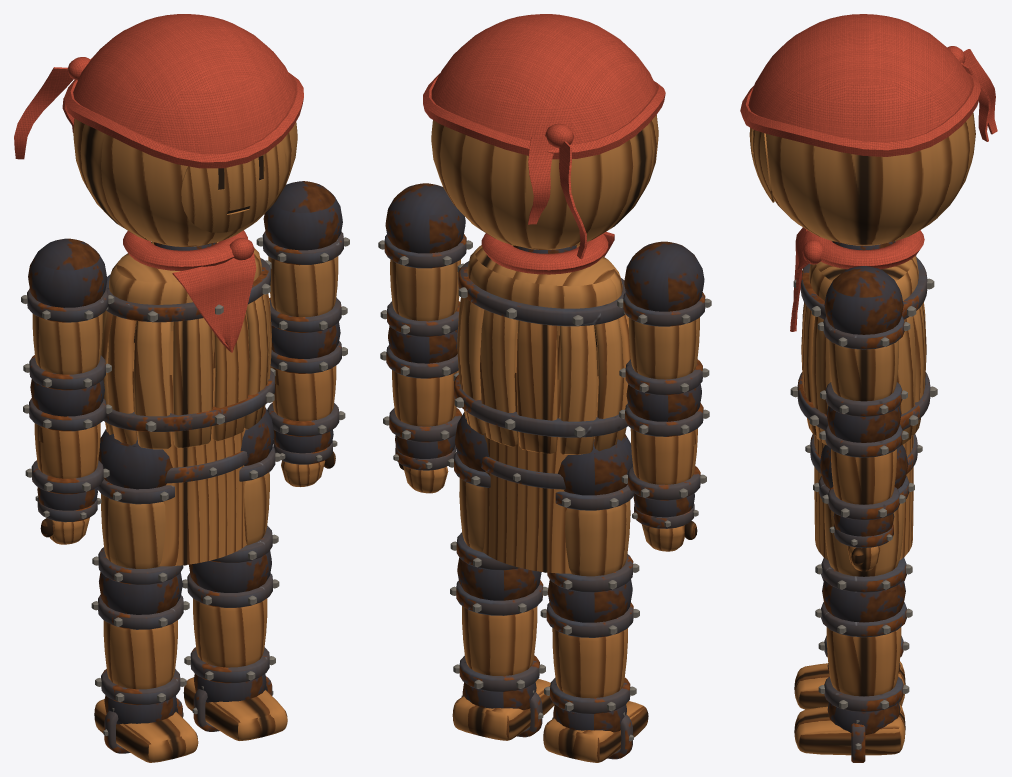
File: wooden.glb
3 views of the same model, side by side, from view 1: azimuth 30°, elevation 25°; view 2: azimuth 150°, elevation 25°; view 3: azimuth 270°, elevation 25° (orthographic).
Visible parts, largest first — view 1: Torso, Bandana, UpperArm_R, Head, UpperArm_L, LowerLeg_R, LowerLeg_L, UpperLeg_R, LowerArm_R, Scarf, LowerArm_L, FacePlate (+5 smaller); view 2: Torso, Bandana, Head, UpperArm_R, UpperArm_L, LowerLeg_R, LowerLeg_L, UpperLeg_R, LowerArm_R, LowerArm_L, Foot_R, Foot_L (+4 smaller); view 3: Bandana, Head, Torso, UpperArm_L, LowerLeg_L, LowerArm_L, Foot_L, UpperLeg_L, Scarf, Hand_L, Foot_R, FacePlate.
Part boxes in pixels (box(x1,y1,x2,y2)): Torso: box(100, 241, 275, 566); Bandana: box(14, 14, 303, 168); UpperArm_R: box(21, 238, 114, 390); Head: box(73, 119, 297, 250); UpperArm_L: box(256, 181, 349, 332); LowerLeg_R: box(91, 572, 189, 705); LowerLeg_L: box(182, 550, 279, 683); UpperLeg_R: box(92, 429, 186, 584); LowerArm_R: box(23, 379, 112, 494); Scarf: box(123, 230, 256, 352); LowerArm_L: box(267, 322, 347, 436); FacePlate: box(181, 142, 286, 232); Torso: box(453, 244, 630, 573); Bandana: box(423, 14, 665, 259); Head: box(431, 115, 658, 253); UpperArm_R: box(617, 241, 711, 395); UpperArm_L: box(378, 183, 472, 336); LowerLeg_R: box(540, 579, 639, 714); LowerLeg_L: box(450, 557, 548, 691); UpperLeg_R: box(543, 434, 639, 592); LowerArm_R: box(619, 384, 709, 500); LowerArm_L: box(380, 326, 461, 442); Foot_R: box(543, 701, 648, 762); Foot_L: box(452, 679, 554, 740); Bandana: box(740, 14, 997, 156); Head: box(766, 112, 975, 250); Torso: box(790, 241, 937, 560); UpperArm_L: box(817, 266, 910, 416); LowerLeg_L: box(815, 580, 912, 712); LowerArm_L: box(819, 406, 908, 520); Foot_L: box(794, 702, 905, 762); UpperLeg_L: box(813, 445, 914, 592); Scarf: box(790, 227, 924, 331); Hand_L: box(829, 513, 894, 571); Foot_R: box(794, 661, 905, 709); FacePlate: box(749, 127, 774, 202).
Size of the model in its own units: 0.754 by 1.67 by 0.5521.
Materials: 9 (7 with a texture image).
